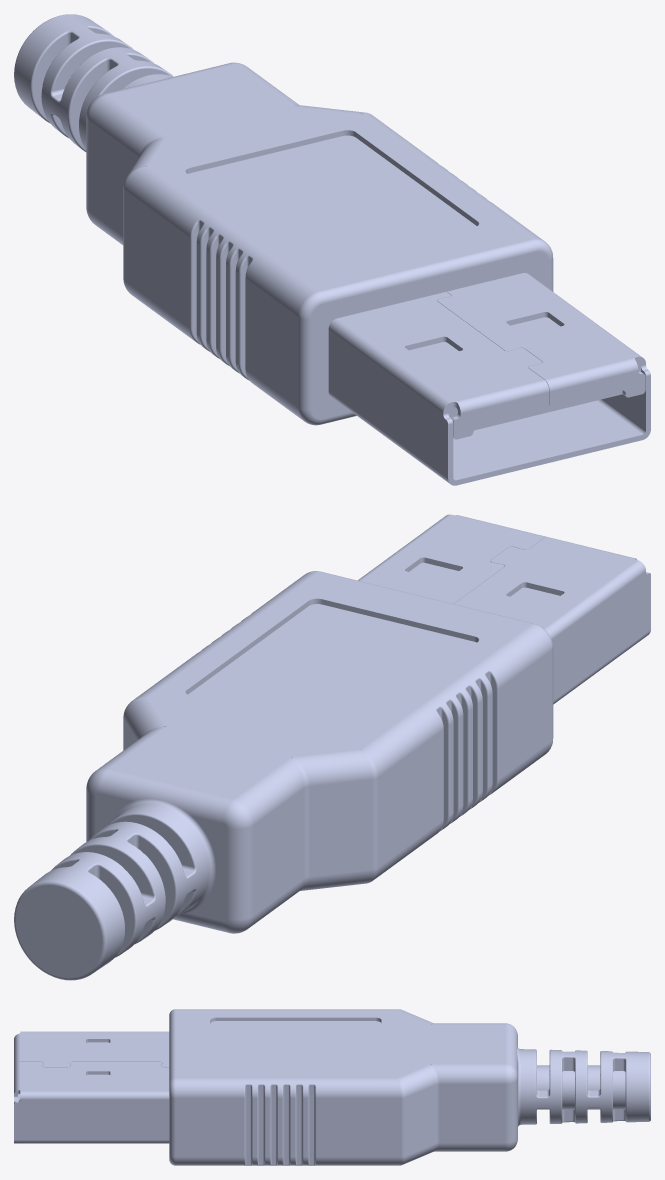
The model's file is USB_A_Plug.glb.
3 views of the same model, one above another, from view 1: azimuth 30°, elevation 25°; view 2: azimuth 150°, elevation 25°; view 3: azimuth 270°, elevation 25° (orthographic). The views are drawn at different scales.
Visible parts, largest first — view 1: USB A Plug; view 2: USB A Plug; view 3: USB A Plug.
Boxes of the visible parts, <box> form: USB A Plug: <box>14,14,650,485</box>; USB A Plug: <box>14,514,650,980</box>; USB A Plug: <box>14,1009,650,1165</box>.
Bounding box in the file's own units: 0.015 × 0.0075 × 0.0503.
